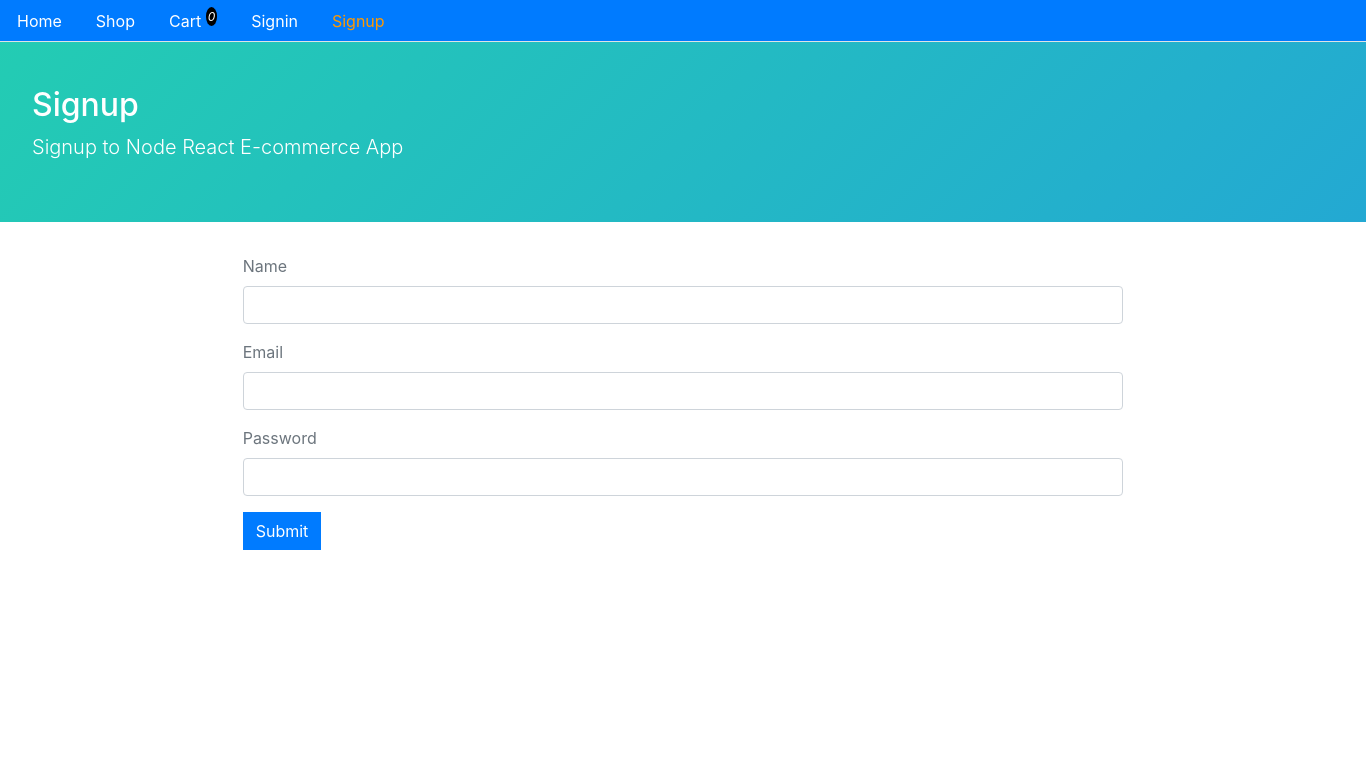
Test case: signup flow › shows the error returned by the API when the email is taken
This screenshot has width=1366, height=768.
Type "Jane Doe" into the field below "Name" at (684, 305), box 243,286 -> 1124,324
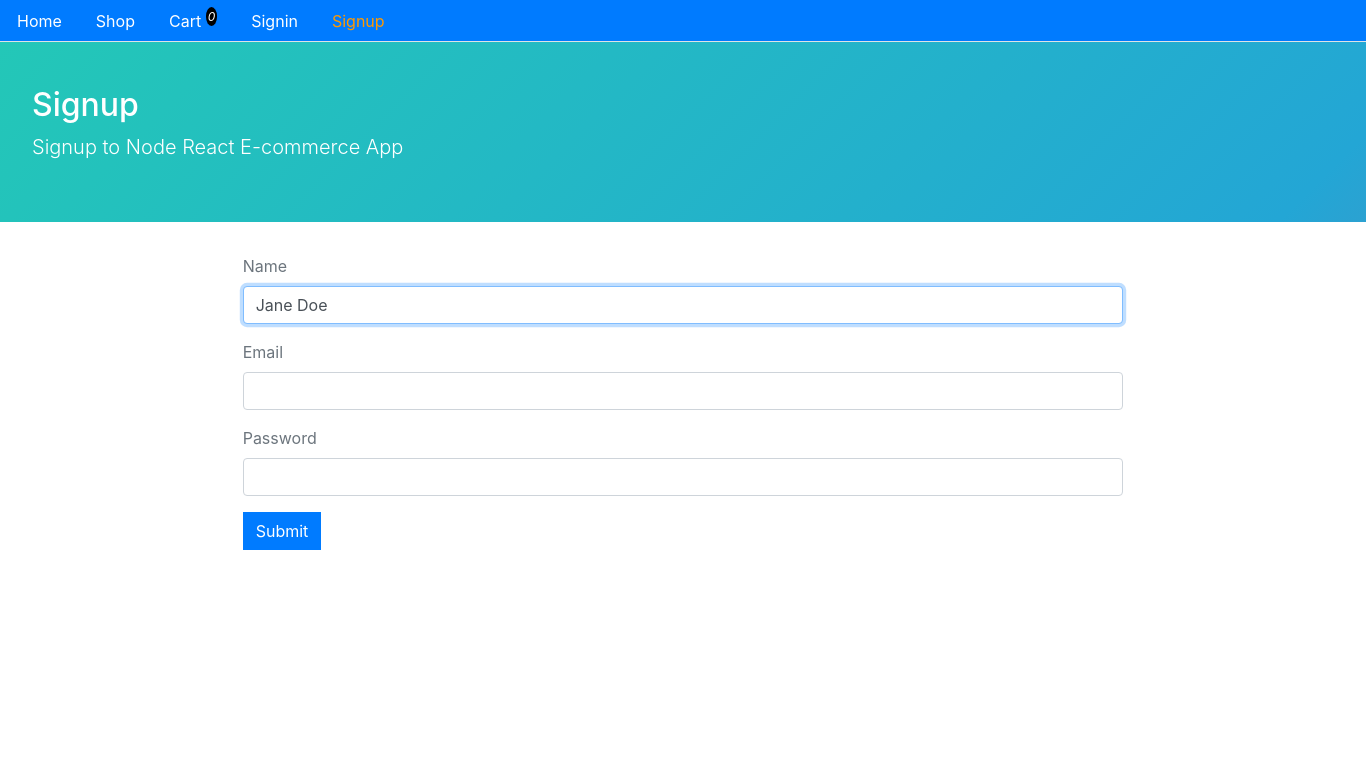
Type "taken@example.com" into the field below "Email" at (684, 391), box 243,372 -> 1124,410
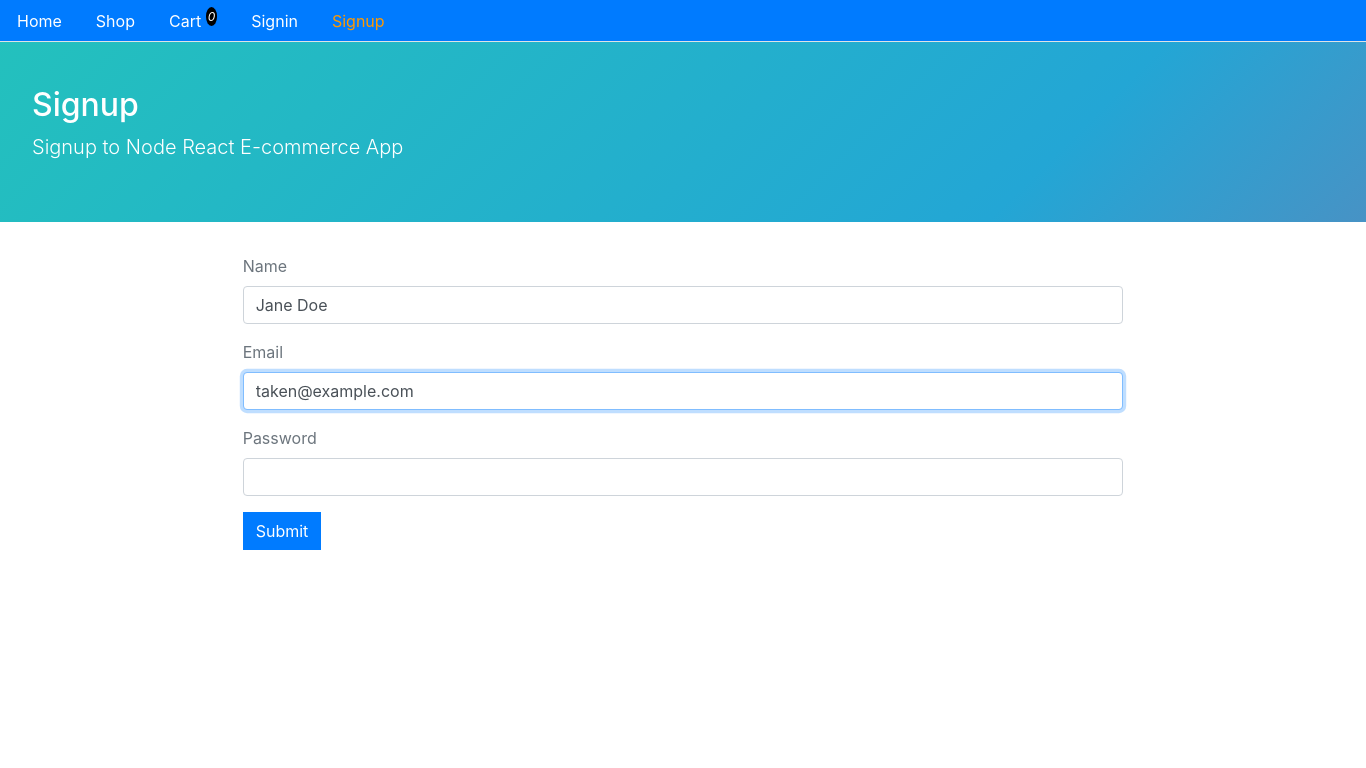
Type "secret1" into the password field at (684, 477), box 243,458 -> 1124,496
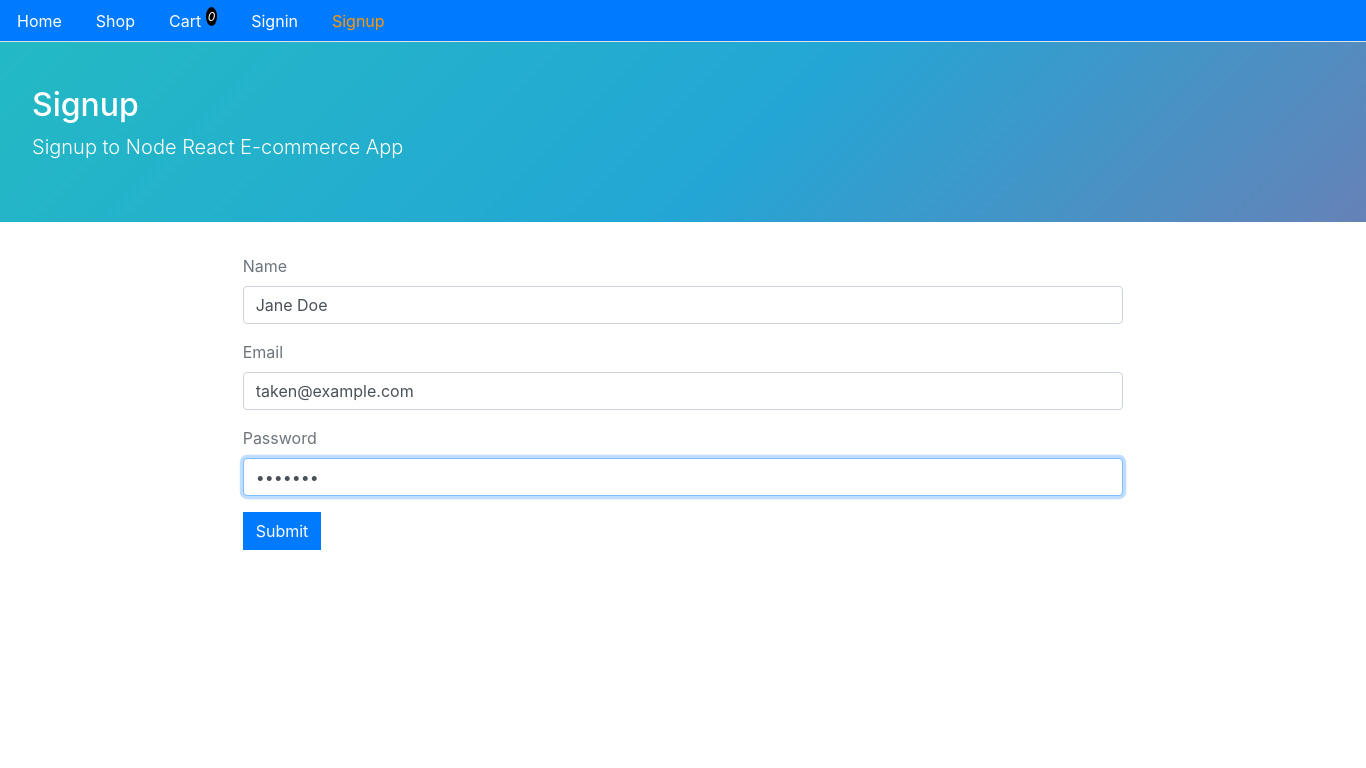
Click the button "Submit" at (283, 531), box 243,512 -> 322,550
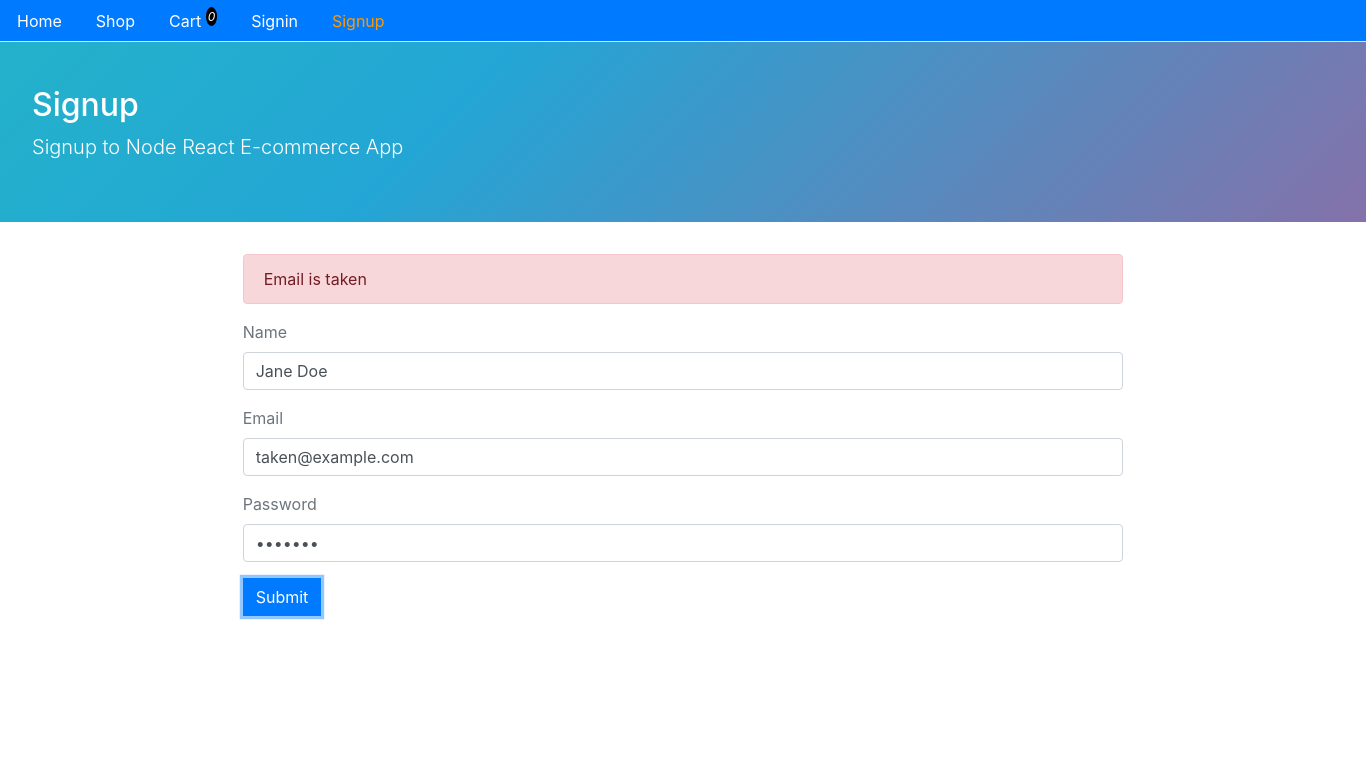
Now the text "Email is taken" is shown, box 243,254 -> 1123,304
Now the text with class "alert-danger" reads "Email is taken", box 264,269 -> 367,289
